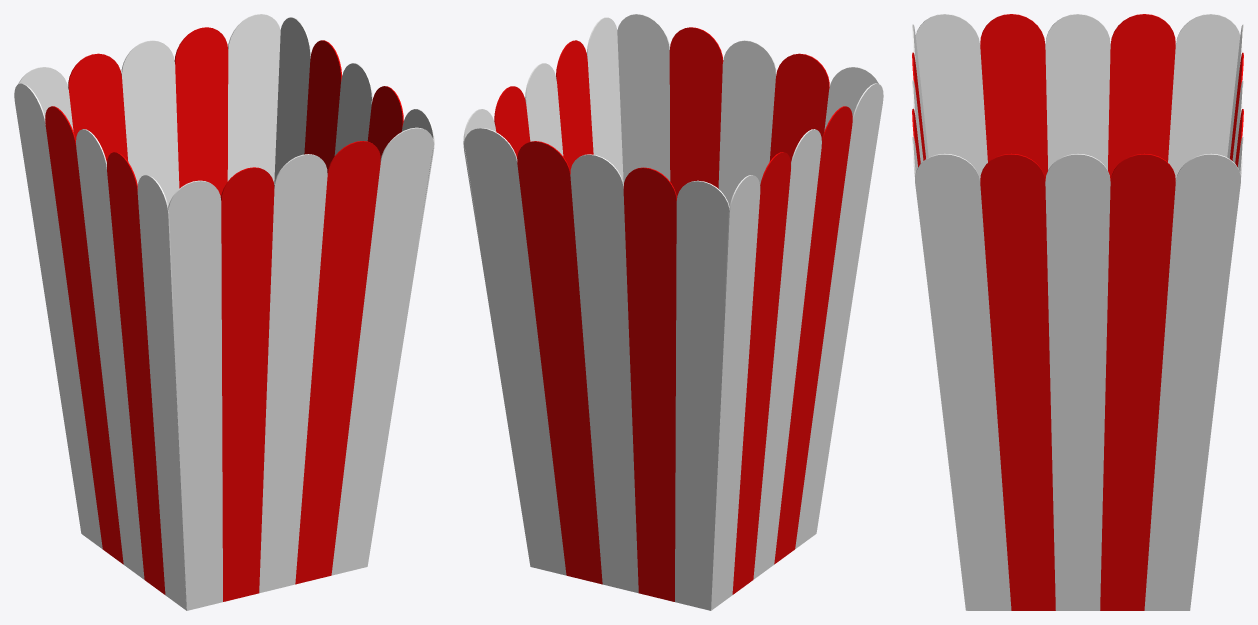
File: Popcorn Package 1.fbx
The picture shows the model from 3 angles, left to right: view 1: azimuth 30°, elevation 25°; view 2: azimuth 150°, elevation 25°; view 3: azimuth 270°, elevation 25°; orthographic projection. The views are drawn at different scales.
Parts seen in each view (by area): view 1: Rectangle007, Rectangle008, Rectangle009, Rectangle006, Rectangle010, Rectangle025, Rectangle021, Rectangle022, Rectangle023, Rectangle024, Rectangle017, Rectangle016 (+8 smaller); view 2: Rectangle017, Rectangle019, Rectangle018, Rectangle020, Rectangle016, Rectangle021, Rectangle025, Rectangle024, Rectangle023, Rectangle022, Rectangle009, Rectangle010 (+8 smaller); view 3: Rectangle013, Rectangle015, Rectangle012, Rectangle014, Rectangle011, Rectangle024, Rectangle022, Rectangle023, Rectangle021, Rectangle025, Rectangle016, Rectangle010 (+2 smaller).
Boxes of the visible parts, x1,y1,x2,y2 form: Rectangle007: (221,167,274,601); Rectangle008: (259,154,327,593); Rectangle009: (295,141,380,584); Rectangle006: (168,180,222,610); Rectangle010: (331,127,433,575); Rectangle025: (137,175,186,610); Rectangle021: (14,83,102,548); Rectangle022: (45,106,123,564); Rectangle023: (76,129,144,579); Rectangle024: (107,152,165,594); Rectangle017: (174,27,228,197); Rectangle016: (227,14,280,184); Rectangle017: (517,141,602,584); Rectangle019: (623,167,676,601); Rectangle018: (570,154,638,593); Rectangle020: (675,180,729,610); Rectangle016: (464,127,566,575); Rectangle021: (711,175,760,609); Rectangle025: (795,83,883,549); Rectangle024: (774,106,852,564); Rectangle023: (753,129,821,579); Rectangle022: (732,152,790,594); Rectangle009: (669,27,723,197); Rectangle010: (617,14,670,185); Rectangle013: (1045,154,1110,610); Rectangle015: (1144,153,1240,610); Rectangle012: (980,153,1055,610); Rectangle014: (1100,153,1175,610); Rectangle011: (915,153,1011,610); Rectangle024: (980,14,1047,180); Rectangle022: (1108,14,1175,180); Rectangle023: (1045,14,1110,169); Rectangle021: (1168,14,1240,181); Rectangle025: (915,14,987,181); Rectangle016: (1189,137,1243,610); Rectangle010: (912,137,966,610).
Bounding box in the file's own units: 50 × 79.63 × 49.86.
